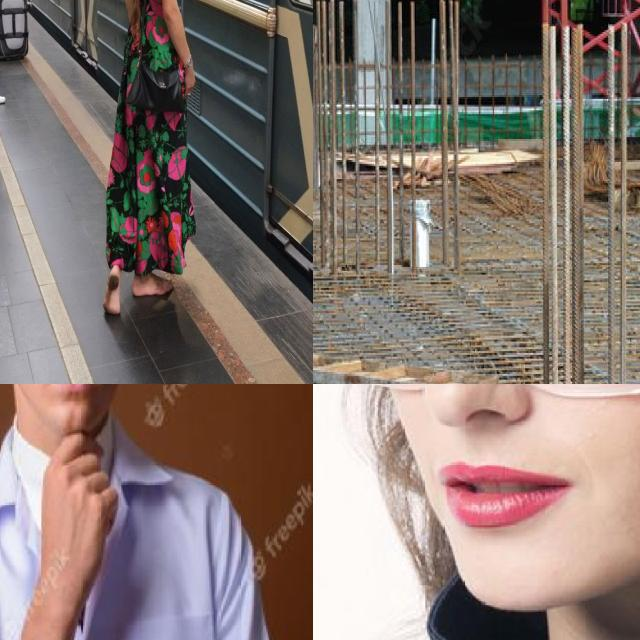Barefoots: (132, 272, 175, 296), (103, 269, 120, 315)
face_nomask: (359, 384, 640, 556)
hand_noglove: (36, 432, 124, 550)
person: (0, 384, 286, 640)
